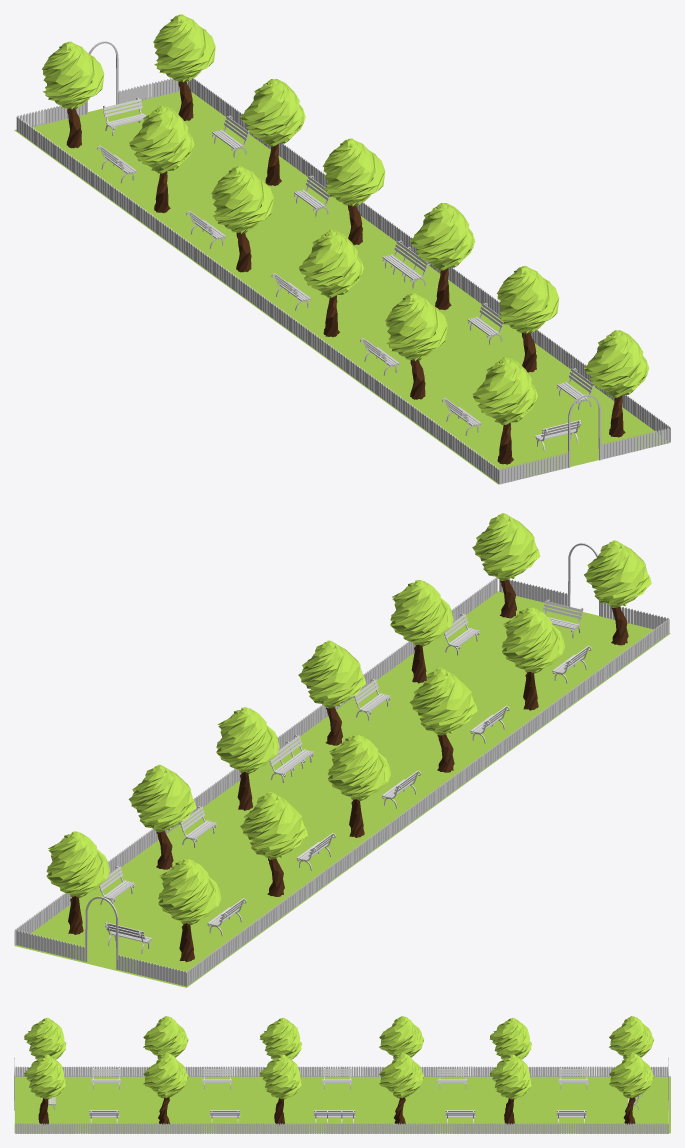
The model's file is banc2.fbx.
3 renders of one model, top to bottom at view 1: azimuth 30°, elevation 25°; view 2: azimuth 150°, elevation 25°; view 3: azimuth 270°, elevation 25°, orthographic. The views are drawn at different scales.
Visible parts, largest first — view 1: Plane, Cube.035, Cube.003, Cube.011, Cube.000, Cube.010, Cube.002, Cube.004, Cube.008, Cube.001, Cube.009, Cube.007 (+6 smaller); view 2: Plane, Cube.035, Cube.003, Cube.012, Cube.005, Cube.007, Cube.001, Cube.006, Cube.009, Cube.008, Cube.004, Cube.011 (+5 smaller); view 3: Plane, Cube.003, Cube.035, Cube.004, Cube.002, Cube.008, Cube.006, Cube.005, Cube.007, Cube.010, Cube.011, Cube.000 (+14 smaller).
Boxes of the visible parts, <box> form: Plane: <box>14,91,670,484</box>; Cube.035: <box>16,116,499,483</box>; Cube.003: <box>188,78,670,442</box>; Cube.011: <box>211,165,273,272</box>; Cube.000: <box>385,293,447,399</box>; Cube.010: <box>42,41,104,148</box>; Cube.002: <box>322,138,385,245</box>; Cube.004: <box>153,14,215,120</box>; Cube.008: <box>496,266,559,372</box>; Cube.001: <box>472,357,537,464</box>; Cube.009: <box>129,106,194,213</box>; Cube.007: <box>410,203,475,309</box>; Plane: <box>14,591,670,987</box>; Cube.035: <box>186,618,669,986</box>; Cube.003: <box>14,577,497,944</box>; Cube.012: <box>409,667,477,772</box>; Cube.005: <box>128,764,196,869</box>; Cube.007: <box>298,640,366,745</box>; Cube.001: <box>584,540,651,645</box>; Cube.006: <box>472,513,540,618</box>; Cube.009: <box>240,791,307,896</box>; Cube.008: <box>390,580,453,683</box>; Cube.004: <box>46,831,109,934</box>; Cube.011: <box>327,734,390,837</box>; Plane: <box>15,1076,670,1133</box>; Cube.003: <box>15,1123,668,1133</box>; Cube.035: <box>15,1066,667,1076</box>; Cube.004: <box>609,1053,653,1124</box>; Cube.002: <box>379,1053,424,1124</box>; Cube.008: <box>143,1053,188,1124</box>; Cube.006: <box>24,1054,66,1124</box>; Cube.005: <box>490,1054,531,1124</box>; Cube.007: <box>260,1054,301,1125</box>; Cube.010: <box>609,1016,653,1058</box>; Cube.011: <box>379,1016,424,1058</box>; Cube.000: <box>143,1016,188,1058</box>.
Bounding box in the file's own units: 407 × 234 × 1969.
